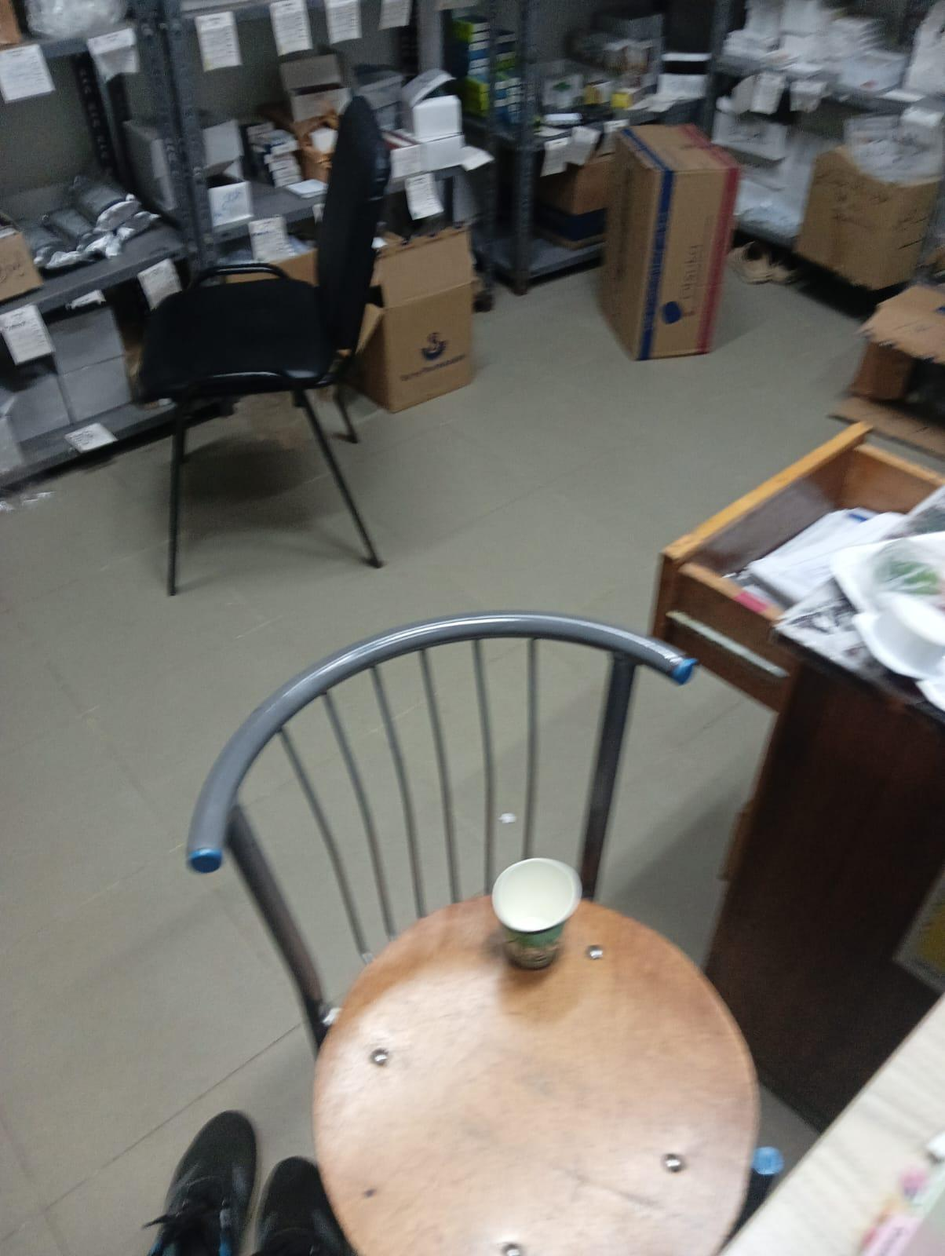cup: (491, 858, 580, 969)
